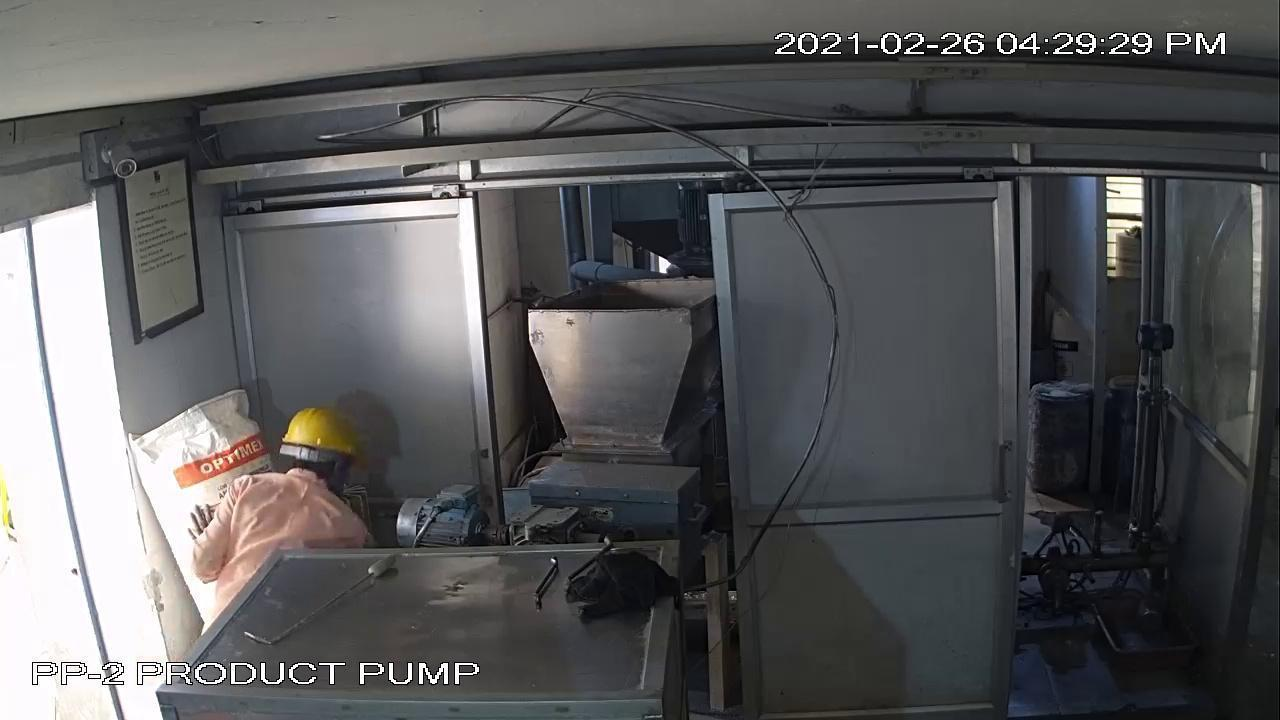helmet: (266, 403, 371, 497)
